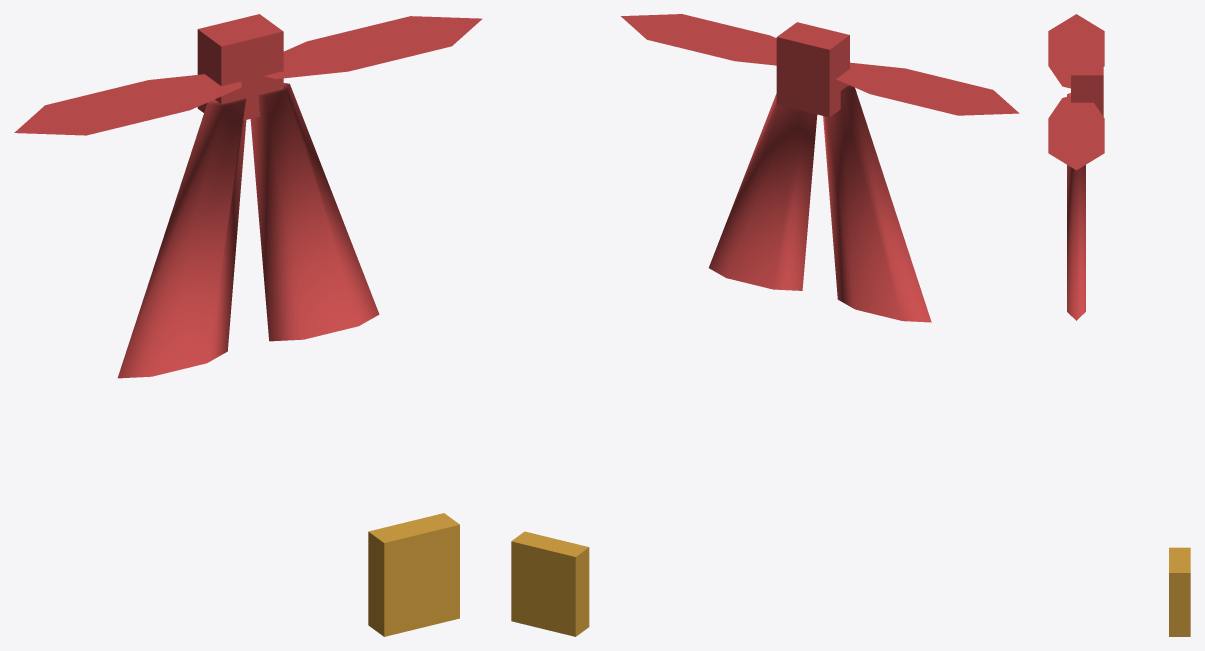
The model's file is anime_bow.glb.
3 renders of one model, left to right at view 1: azimuth 30°, elevation 25°; view 2: azimuth 150°, elevation 25°; view 3: azimuth 270°, elevation 25°, orthographic. The views are drawn at different scales.
Visible parts, largest first — view 1: tail, tail.001, pin, loop, loop.001, knot; view 2: tail, tail.001, pin, knot, loop, loop.001; view 3: loop.001, tail.001, loop, pin, knot.
Part boxes in pixels (x1,y1,x2,y2): tail: (117, 98, 246, 378); tail.001: (250, 83, 379, 341); pin: (368, 513, 459, 636); loop: (14, 74, 241, 135); loop.001: (264, 16, 482, 78); knot: (197, 14, 283, 120); tail: (823, 85, 931, 322); tail.001: (709, 93, 817, 290); pin: (511, 531, 589, 636); knot: (776, 22, 849, 117); loop: (836, 62, 1019, 115); loop.001: (621, 14, 776, 65); loop.001: (1048, 96, 1104, 170); tail.001: (1067, 165, 1085, 320); loop: (1048, 14, 1104, 88); pin: (1169, 547, 1190, 636); knot: (1071, 54, 1103, 116).
Bounding box in the file's own units: 0.149 × 0.194 × 0.0524.
